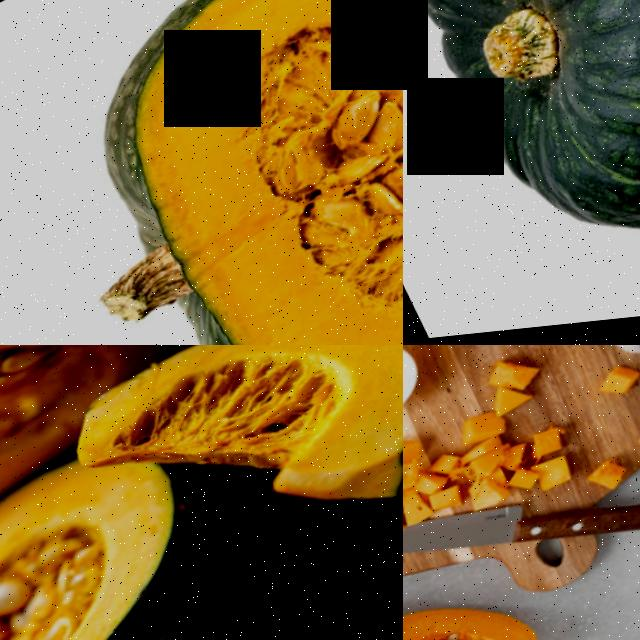pumpkin: (0, 0, 403, 345), (38, 345, 403, 627), (403, 0, 640, 313), (0, 439, 303, 640), (0, 345, 207, 505), (403, 345, 640, 445), (403, 570, 543, 640)
